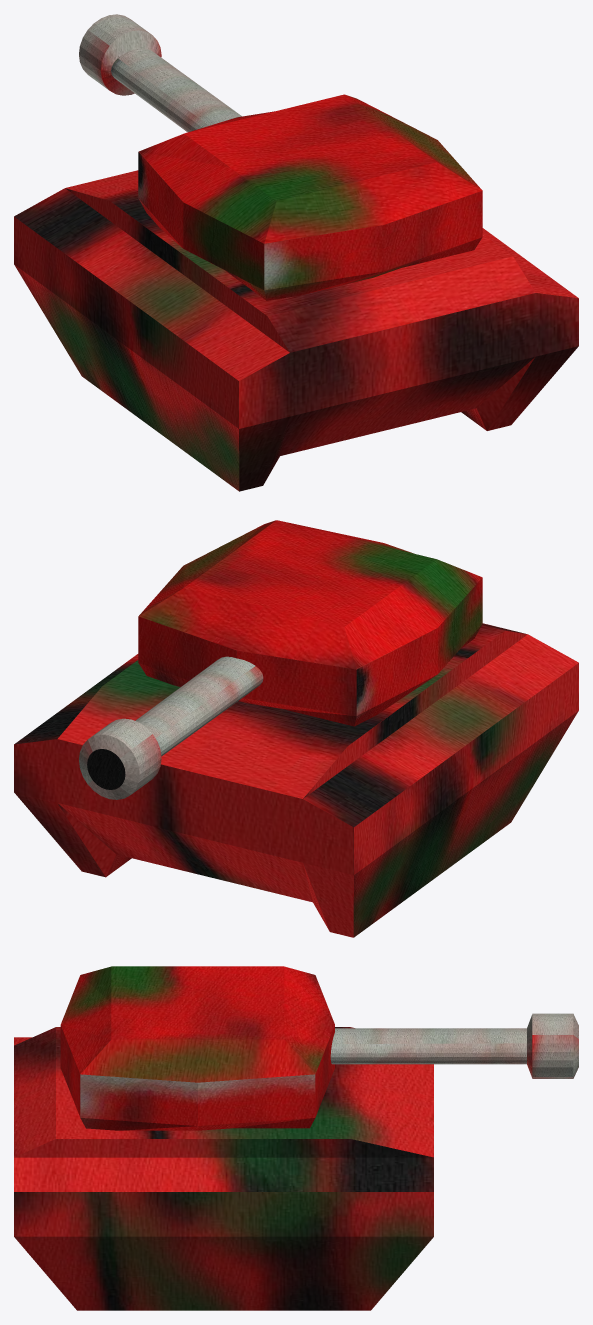
File: tank.dae
3 views of the same model, one above another, from view 1: azimuth 30°, elevation 25°; view 2: azimuth 150°, elevation 25°; view 3: azimuth 270°, elevation 25° (orthographic). The views are drawn at different scales.
Visible parts, largest first — view 1: Hull, Cylinder; view 2: Hull, Cylinder; view 3: Hull, Cylinder.
Part boxes in pixels (x1,y1,x2,y2): Hull: (14, 170, 578, 491); Cylinder: (79, 14, 482, 300); Hull: (14, 623, 578, 937); Cylinder: (79, 520, 482, 799); Hull: (14, 1027, 433, 1310); Cylinder: (60, 966, 578, 1130).
Bounding box in the file's own units: 0.962 × 1.48 × 0.7117.
